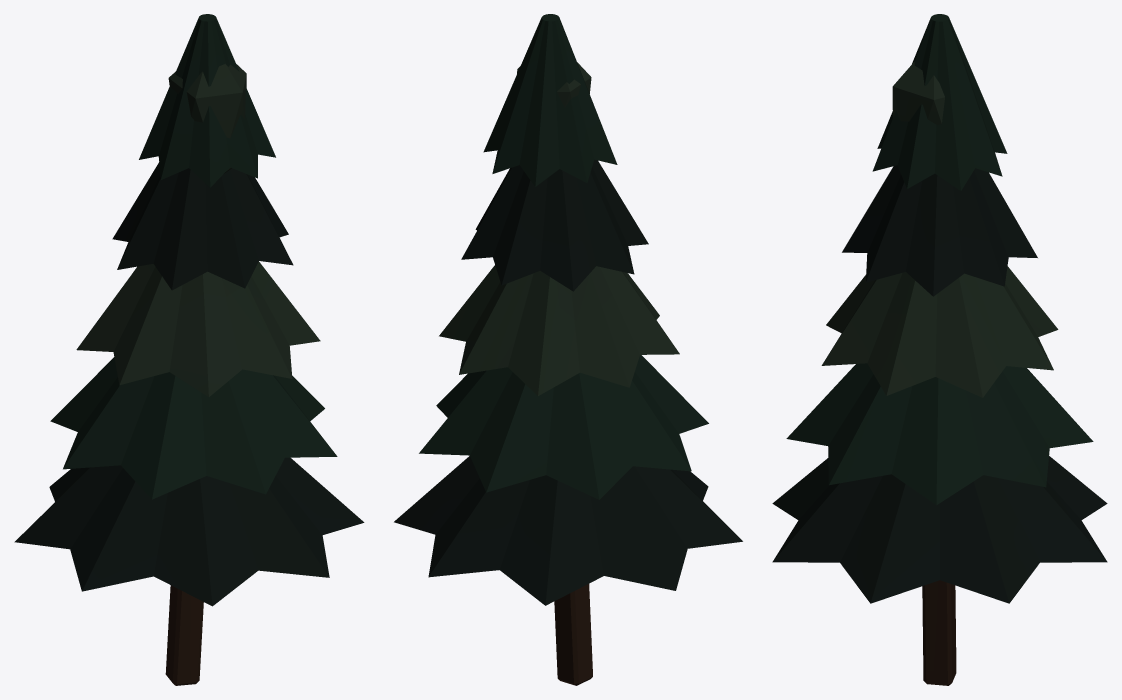
Rendered from env_fir_crooked-CdyY6ifX.glb.
The picture shows the model from 3 angles, left to right: view 1: azimuth 30°, elevation 25°; view 2: azimuth 150°, elevation 25°; view 3: azimuth 270°, elevation 25°; orthographic projection. The views are drawn at different scales.
Parts seen in each view (by area): view 1: env_fir_crooked_l1_body; view 2: env_fir_crooked_l1_body; view 3: env_fir_crooked_l1_body.
Boxes of the visible parts, <box> form: env_fir_crooked_l1_body: <box>14,14,364,685</box>; env_fir_crooked_l1_body: <box>394,14,742,685</box>; env_fir_crooked_l1_body: <box>772,14,1107,685</box>.
Size of the model in its own units: 1.09 by 2.42 by 1.09.
Materials: 1 (1 with a texture image).
